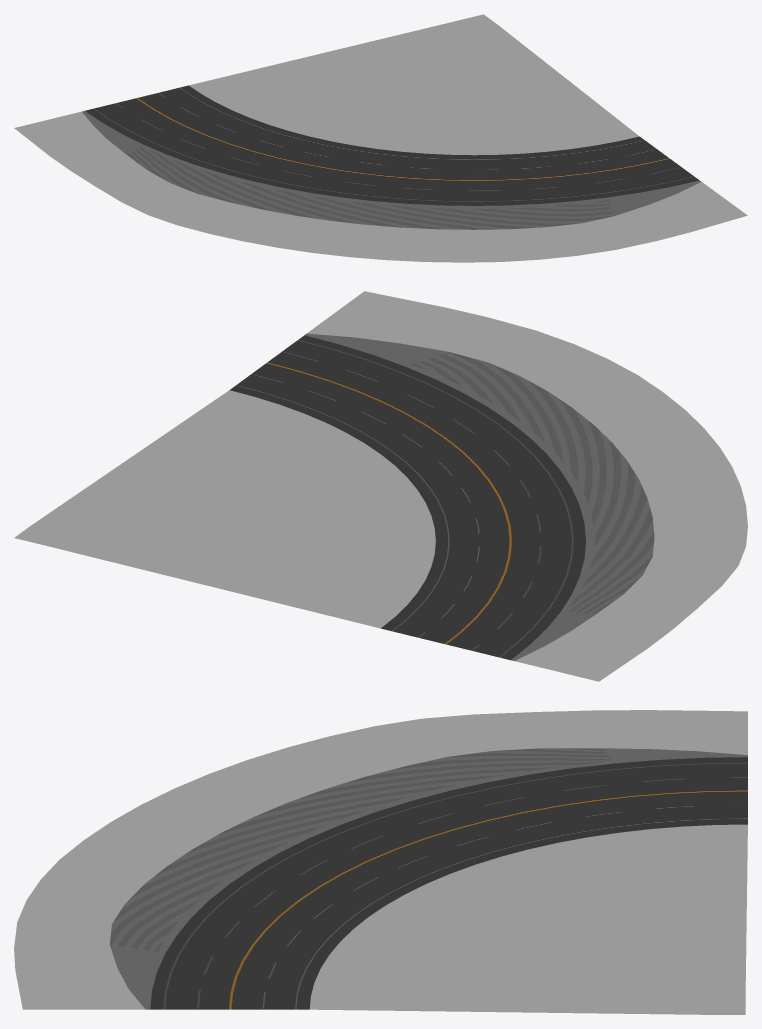
The model's file is Road_turn1_2.fbx.
3 renders of one model, top to bottom at view 1: azimuth 30°, elevation 25°; view 2: azimuth 150°, elevation 25°; view 3: azimuth 270°, elevation 25°, orthographic. The views are drawn at different scales.
Parts seen in each view (by area): view 1: road_turn1_2, road_turn1_2_backsideR, road_turn1_2_backsideL; view 2: road_turn1_2, road_turn1_2_backsideR, road_turn1_2_backsideL; view 3: road_turn1_2, road_turn1_2_backsideR, road_turn1_2_backsideL.
Part boxes in pixels (<box>): road_turn1_2: <box>82,85,701,229</box>; road_turn1_2_backsideR: <box>189,14,639,155</box>; road_turn1_2_backsideL: <box>14,111,747,262</box>; road_turn1_2: <box>229,333,654,660</box>; road_turn1_2_backsideR: <box>14,390,435,628</box>; road_turn1_2_backsideL: <box>307,291,747,681</box>; road_turn1_2: <box>110,748,747,1009</box>; road_turn1_2_backsideR: <box>309,824,747,1014</box>; road_turn1_2_backsideL: <box>14,710,747,1009</box>.
Bounding box in the file's own units: 8901 × 0.000122 × 9055.
